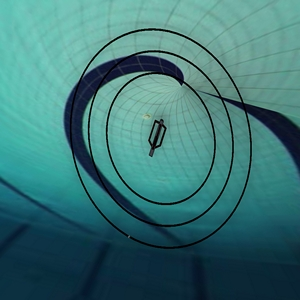circle: (59, 15, 269, 264)
submarine: (137, 112, 183, 161)
